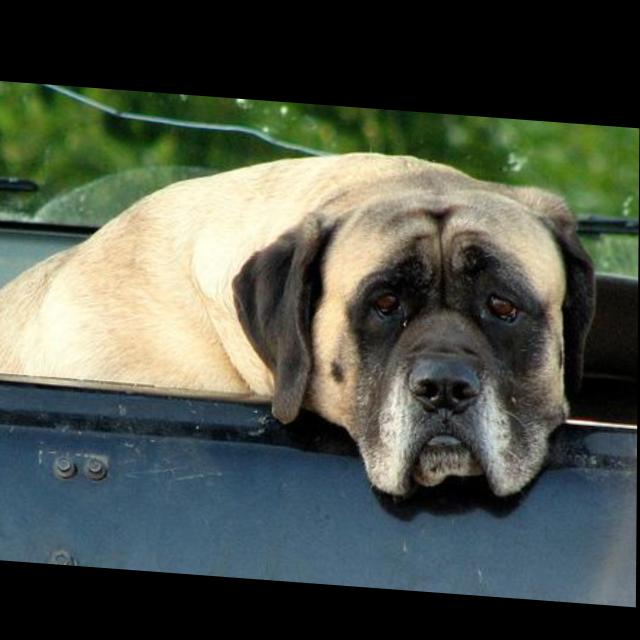bullmastiff: (1, 123, 600, 504)
